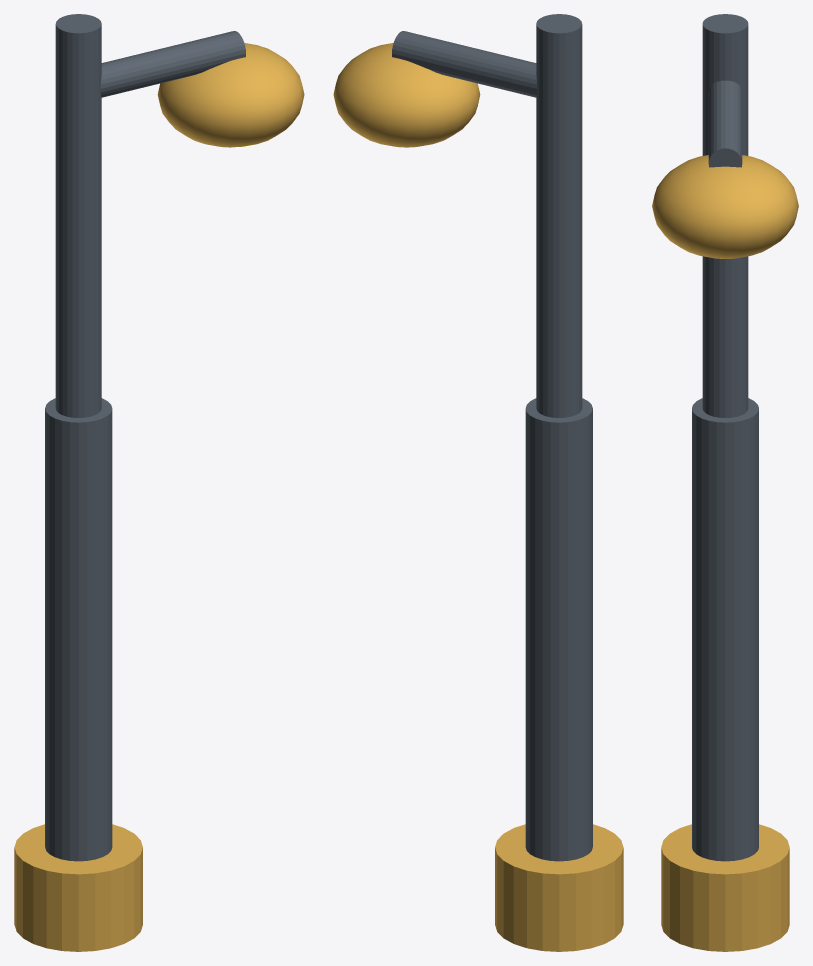
The model's file is lamp_bellini_v1.81c8b123ded3.glb.
The picture shows the model from 3 angles, left to right: view 1: azimuth 30°, elevation 25°; view 2: azimuth 150°, elevation 25°; view 3: azimuth 270°, elevation 25°; orthographic projection.
Parts seen in each view (by area): view 1: Lamp_Lower_BELLINI, Lamp_Upper_BELLINI, Lamp_Base_BELLINI, Bell_BELLINI, Lamp_Arm_BELLINI; view 2: Lamp_Lower_BELLINI, Lamp_Upper_BELLINI, Lamp_Base_BELLINI, Bell_BELLINI, Lamp_Arm_BELLINI; view 3: Lamp_Lower_BELLINI, Lamp_Base_BELLINI, Bell_BELLINI, Lamp_Upper_BELLINI, Lamp_Arm_BELLINI.
Part boxes in pixels (<box>): Lamp_Lower_BELLINI: <box>45,398,112,861</box>; Lamp_Upper_BELLINI: <box>55,14,101,417</box>; Lamp_Base_BELLINI: <box>14,824,142,951</box>; Bell_BELLINI: <box>157,43,304,147</box>; Lamp_Arm_BELLINI: <box>100,31,245,97</box>; Lamp_Lower_BELLINI: <box>525,398,592,861</box>; Lamp_Upper_BELLINI: <box>536,14,582,417</box>; Lamp_Base_BELLINI: <box>495,824,623,951</box>; Bell_BELLINI: <box>333,43,480,147</box>; Lamp_Arm_BELLINI: <box>392,31,537,97</box>; Lamp_Lower_BELLINI: <box>692,398,758,861</box>; Lamp_Base_BELLINI: <box>661,824,789,951</box>; Bell_BELLINI: <box>652,155,798,258</box>; Lamp_Upper_BELLINI: <box>702,14,748,417</box>; Lamp_Arm_BELLINI: <box>708,80,742,167</box>.
Bounding box in the file's own units: 2.05 × 6.5 × 0.96.
